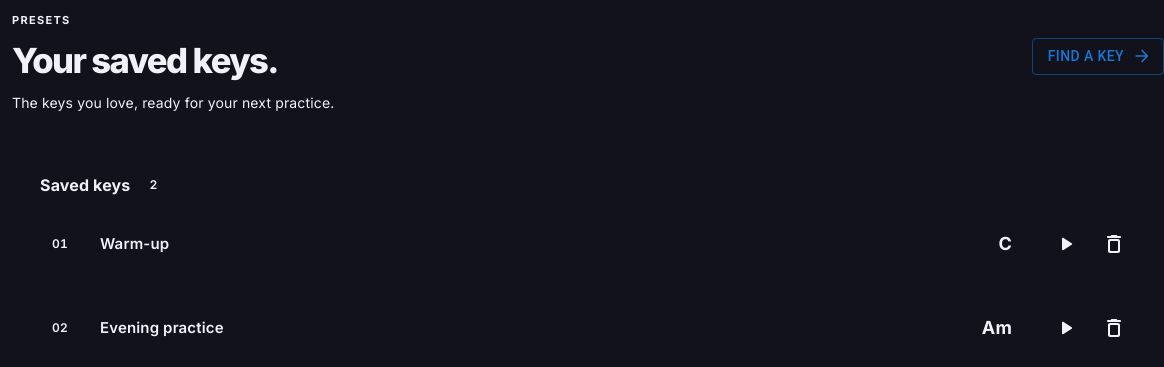
Scenario: saved music interactions › switches the looped recording and stops the selected track on request
Click the button named "Play tone Warm-up": (1066, 244) [1044,222,1088,266]
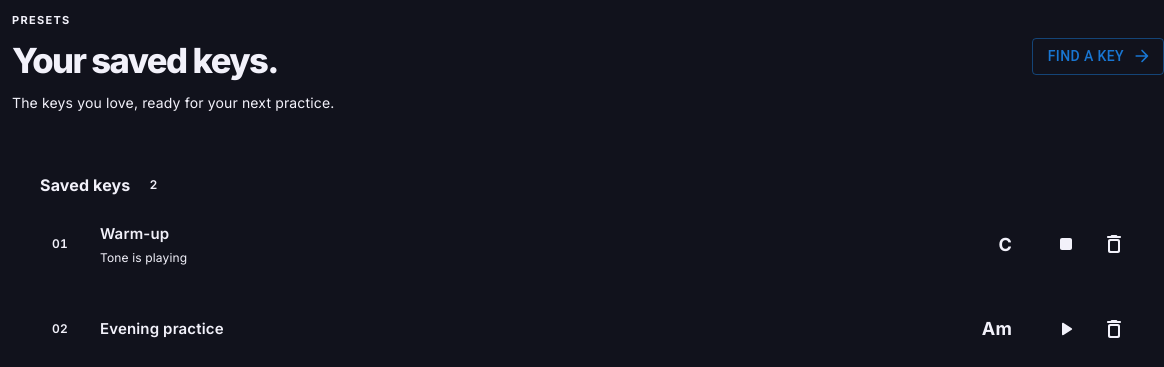
Click the button named "Play tone Evening practice": (1066, 329) [1044,307,1088,351]
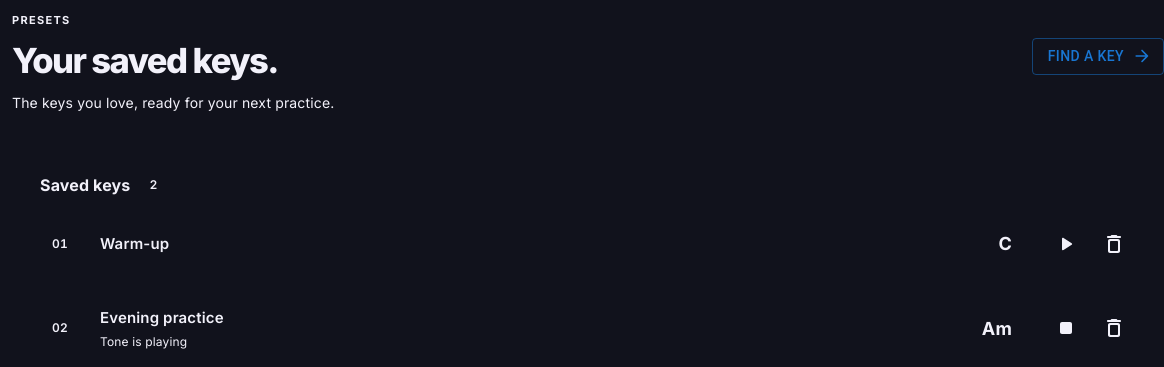
Click the button named "Stop Evening practice": (1066, 328) [1044,306,1088,350]
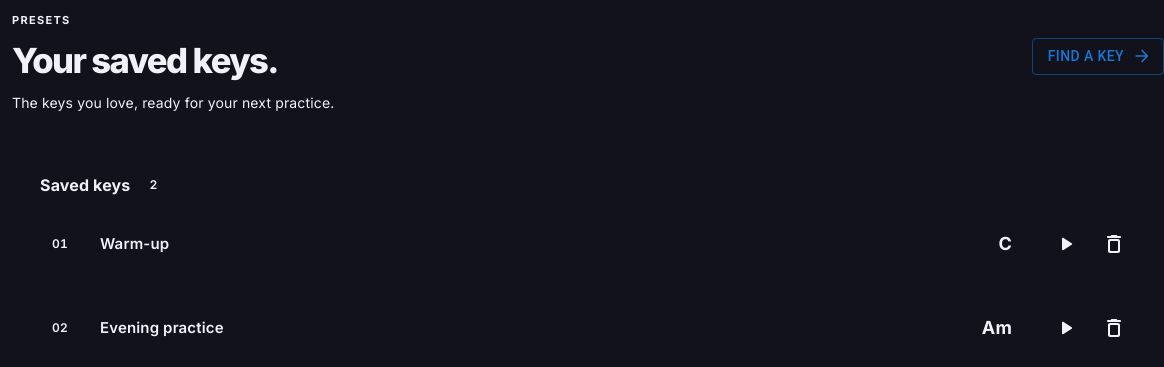
Check: the text "Tone is playing" is gone
